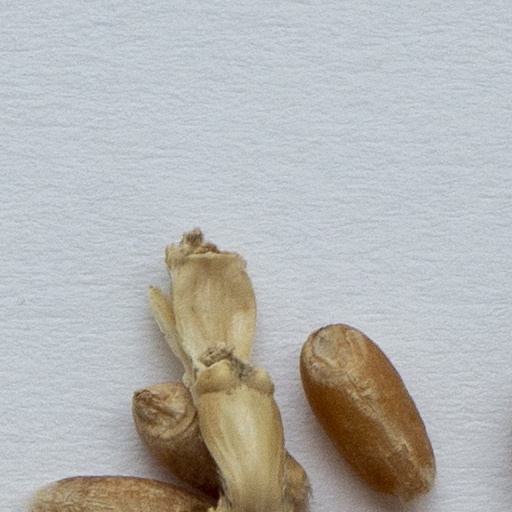Peel-poly: (147, 232, 304, 511)
